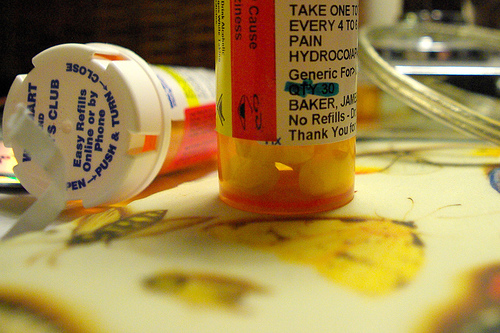pill bottle: (4, 39, 218, 208), (210, 1, 366, 217)
